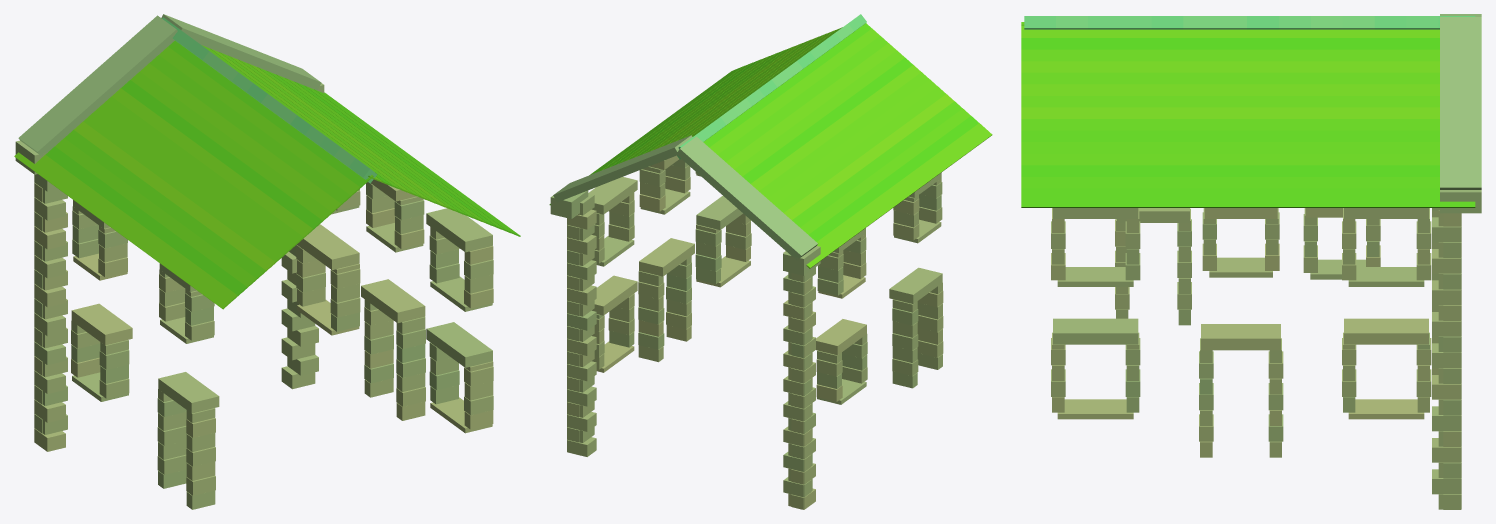
Rendered from SM_Bld_097_Stone.glb.
3 views of the same model, side by side, from view 1: azimuth 30°, elevation 25°; view 2: azimuth 150°, elevation 25°; view 3: azimuth 270°, elevation 25° (orthographic). The views are drawn at different scales.
Visible parts, largest first — view 1: SM_Bld_097_Stone; view 2: SM_Bld_097_Stone; view 3: SM_Bld_097_Stone.
Part boxes in pixels (box(x1,y1,x2,y2)): SM_Bld_097_Stone: box(14, 14, 520, 509); SM_Bld_097_Stone: box(549, 14, 992, 509); SM_Bld_097_Stone: box(1021, 14, 1481, 509).
Size of the model in its own units: 6.48 by 8.04 by 7.95.
